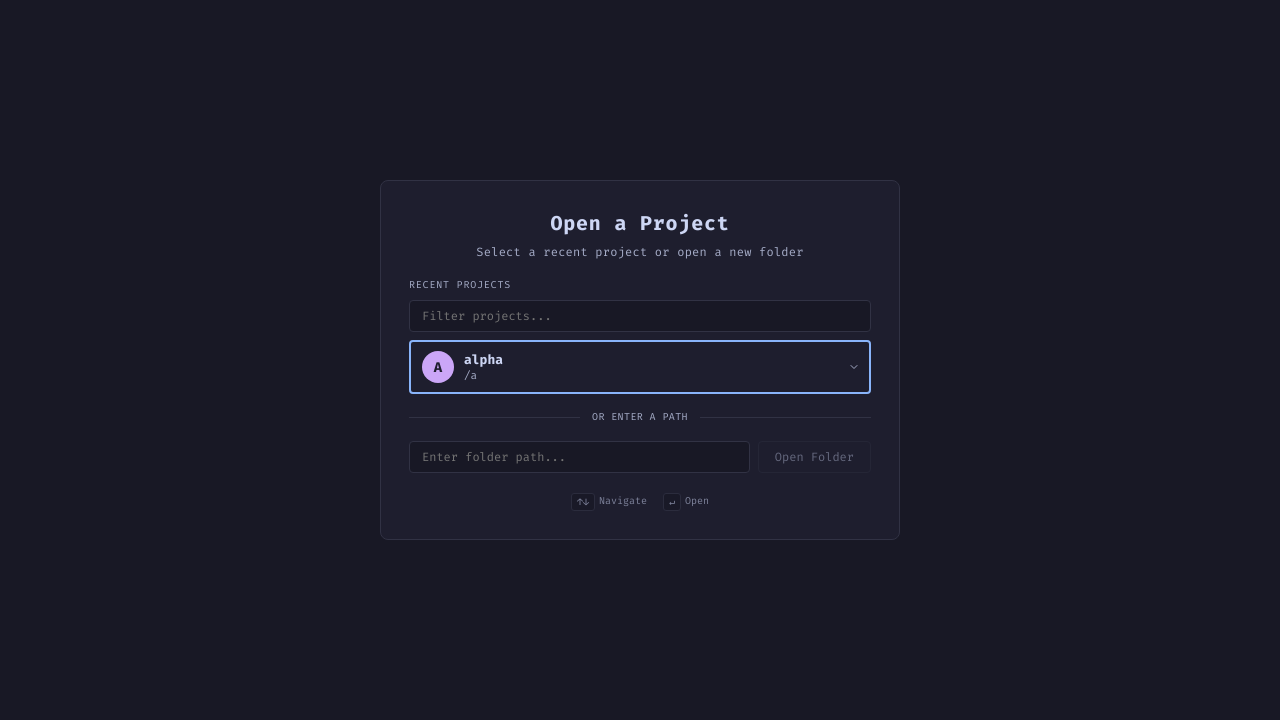
Scenario: ProjectPicker › search filtering › shows "No matching projects" when search finds nothing
The image size is (1280, 720).
Type "zzzznonexistent" into the field with placeholder "Filter projects..." at (640, 316), box [409,300,871,332]
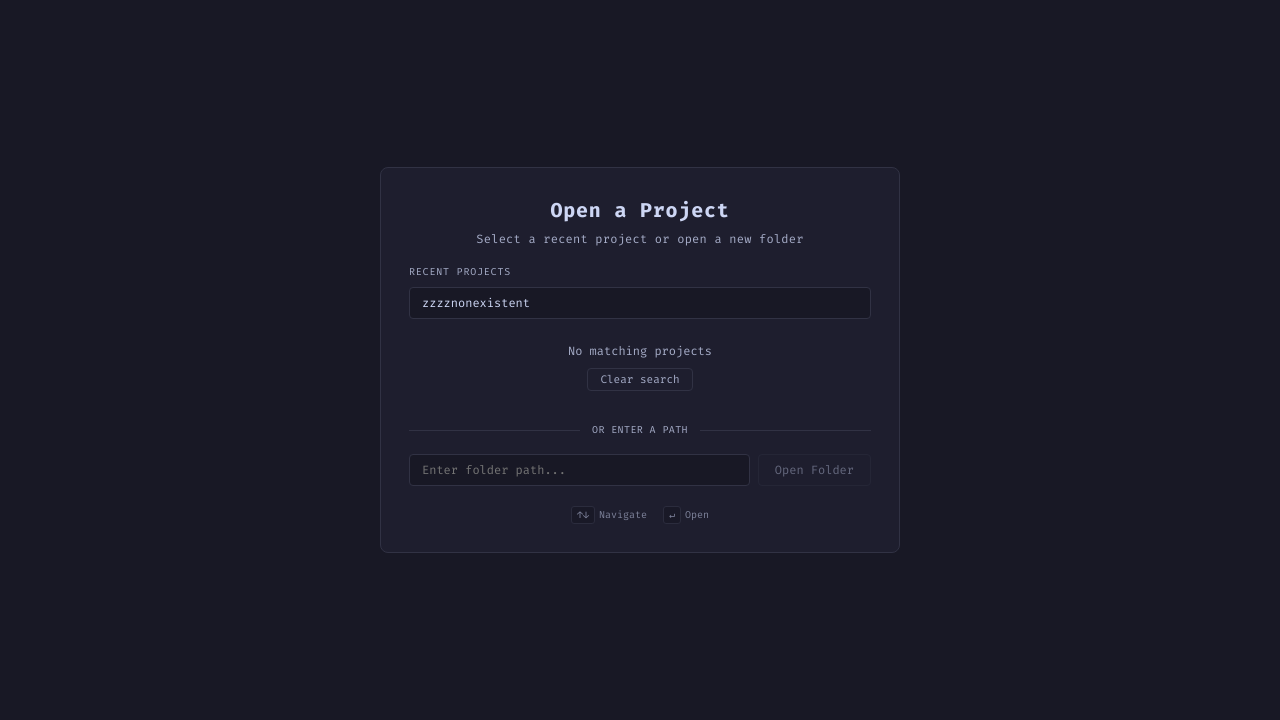
Expected: the text "No matching projects" is shown, [568,343,712,360]
